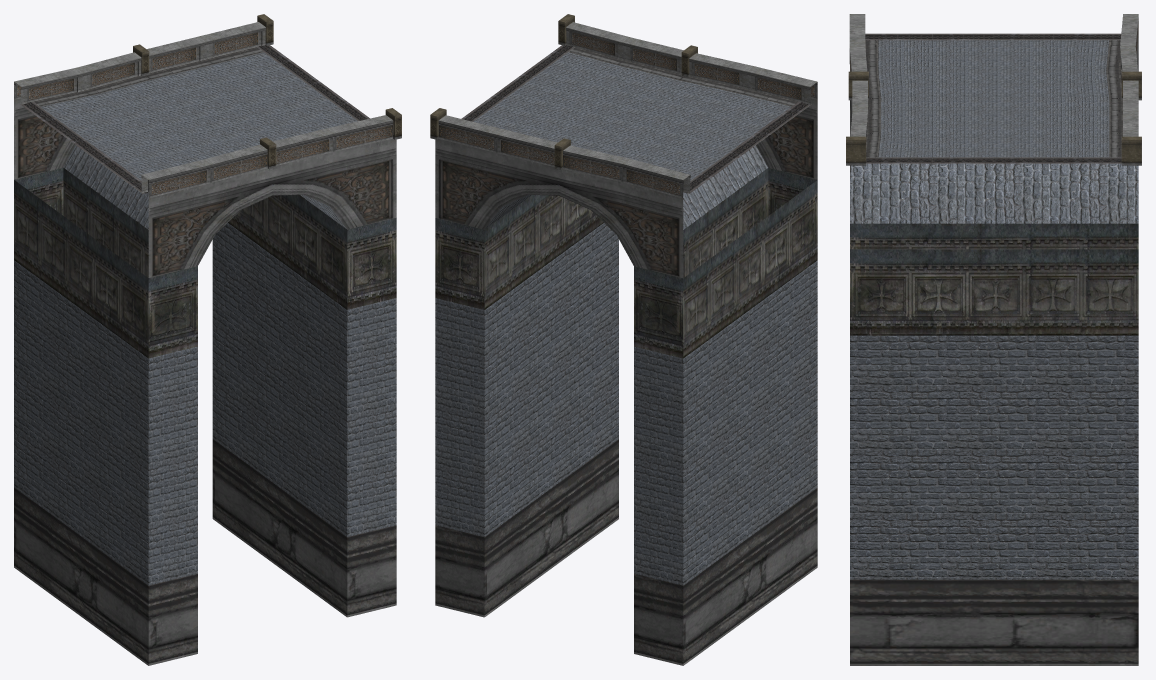
File: Bridge.fbx
The picture shows the model from 3 angles, left to right: view 1: azimuth 30°, elevation 25°; view 2: azimuth 150°, elevation 25°; view 3: azimuth 270°, elevation 25°; orthographic projection. The views are drawn at different scales.
Parts seen in each view (by area): view 1: SMO_BG50_bridge_LD10_0010; view 2: SMO_BG50_bridge_LD10_0010; view 3: SMO_BG50_bridge_LD10_0010.
Boxes of the visible parts, left/top/right/bottom form: SMO_BG50_bridge_LD10_0010: left=14, top=14, right=401, bottom=665; SMO_BG50_bridge_LD10_0010: left=430, top=14, right=817, bottom=665; SMO_BG50_bridge_LD10_0010: left=846, top=14, right=1141, bottom=665.
Size of the model in its own units: 2588 by 4825 by 2453.
